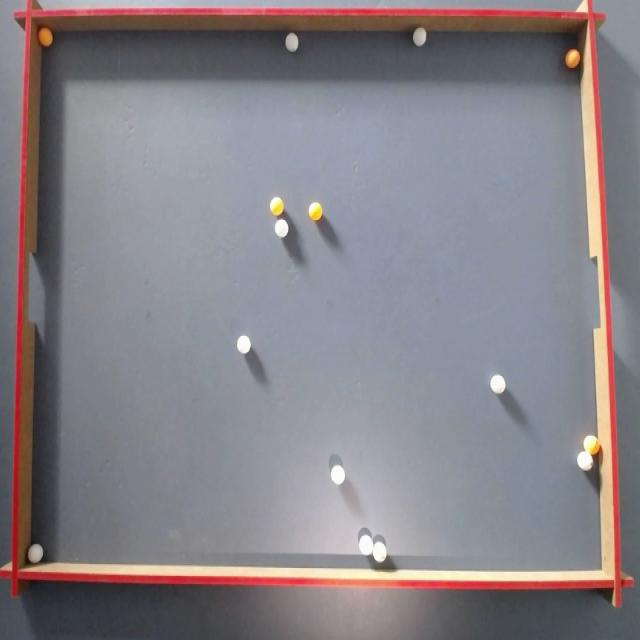orange_ball: (584, 435, 599, 455), (38, 27, 53, 46), (565, 49, 580, 68), (308, 202, 322, 220), (270, 197, 283, 215)
white_ball: (358, 530, 373, 555), (372, 539, 387, 563), (28, 543, 44, 564), (490, 374, 506, 394), (577, 451, 593, 471), (237, 335, 251, 354), (331, 465, 344, 485), (274, 220, 288, 238), (413, 27, 426, 46), (285, 33, 298, 51)
